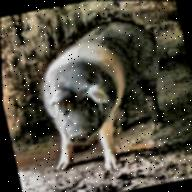boar: (23, 11, 183, 179)
